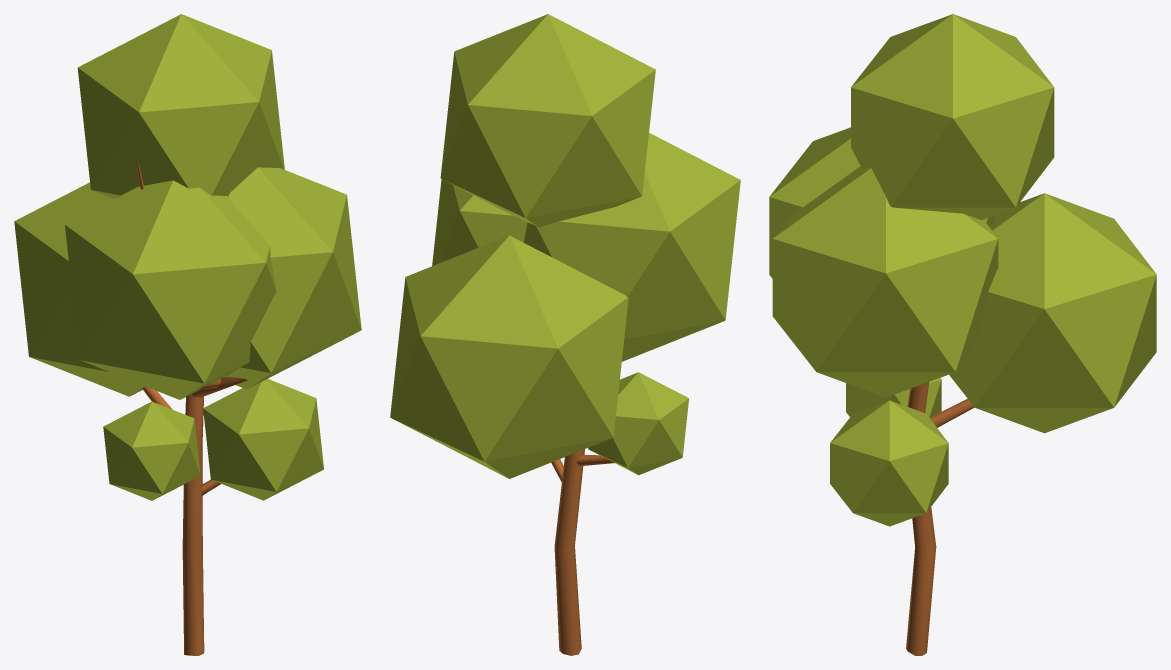
File: oakTreesVisual-compressed.glb
The picture shows the model from 3 angles, left to right: view 1: azimuth 30°, elevation 25°; view 2: azimuth 150°, elevation 25°; view 3: azimuth 270°, elevation 25°; orthographic projection. The views are drawn at different scales.
Visible parts, largest first — view 1: treeLeaves.007, treeLeaves.006, treeLeaves.009, treeLeaves.010, treeLeaves.008, treeLeaves.011, treeBody.012; view 2: treeLeaves.008, treeLeaves.006, treeLeaves.007, treeLeaves.011, treeBody.012, treeLeaves.009; view 3: treeLeaves.009, treeLeaves.008, treeLeaves.006, treeLeaves.010, treeLeaves.007, treeBody.012, treeLeaves.011.
Boxes of the visible parts, bbox=[...] form: treeLeaves.007: bbox=[65, 180, 276, 399]; treeLeaves.006: bbox=[77, 14, 284, 198]; treeLeaves.009: bbox=[224, 167, 361, 389]; treeLeaves.010: bbox=[203, 379, 323, 500]; treeLeaves.008: bbox=[14, 182, 145, 396]; treeLeaves.011: bbox=[103, 401, 200, 500]; treeBody.012: bbox=[136, 158, 247, 655]; treeLeaves.008: bbox=[390, 235, 628, 478]; treeLeaves.006: bbox=[440, 14, 655, 227]; treeLeaves.007: bbox=[524, 133, 740, 361]; treeLeaves.011: bbox=[588, 372, 688, 475]; treeBody.012: bbox=[551, 449, 614, 655]; treeLeaves.009: bbox=[432, 179, 527, 265]; treeLeaves.009: bbox=[772, 166, 998, 397]; treeLeaves.008: bbox=[949, 193, 1156, 433]; treeLeaves.006: bbox=[851, 14, 1054, 220]; treeLeaves.010: bbox=[830, 400, 948, 526]; treeLeaves.007: bbox=[769, 127, 994, 278]; treeBody.012: bbox=[906, 382, 974, 655]; treeLeaves.011: bbox=[846, 378, 941, 417].
Bounding box in the file's own units: 3.74 × 8.31 × 4.56.
1 material, 1 textured.
